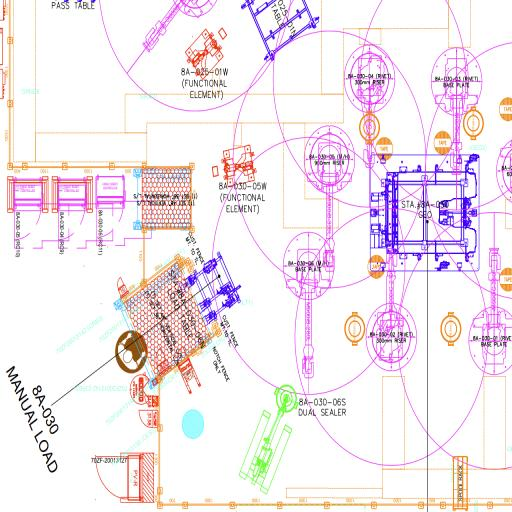robot: (280, 230, 338, 384), (362, 240, 418, 376), (344, 43, 398, 169), (432, 45, 482, 178)
